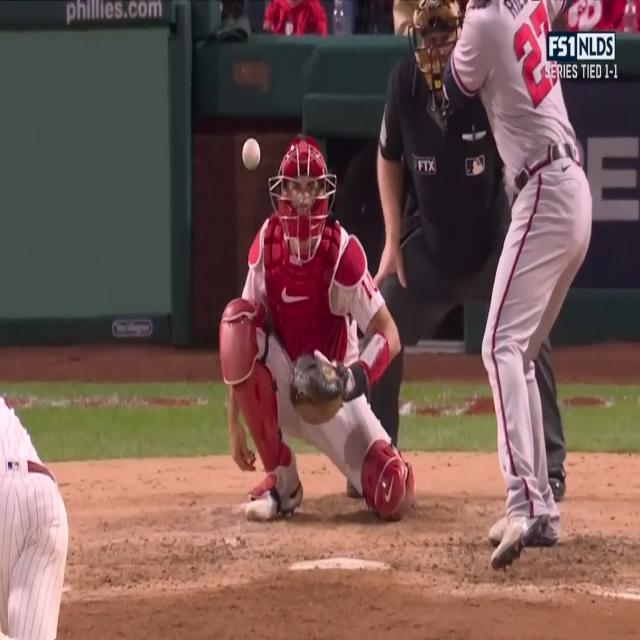baseball: (242, 135, 261, 173)
